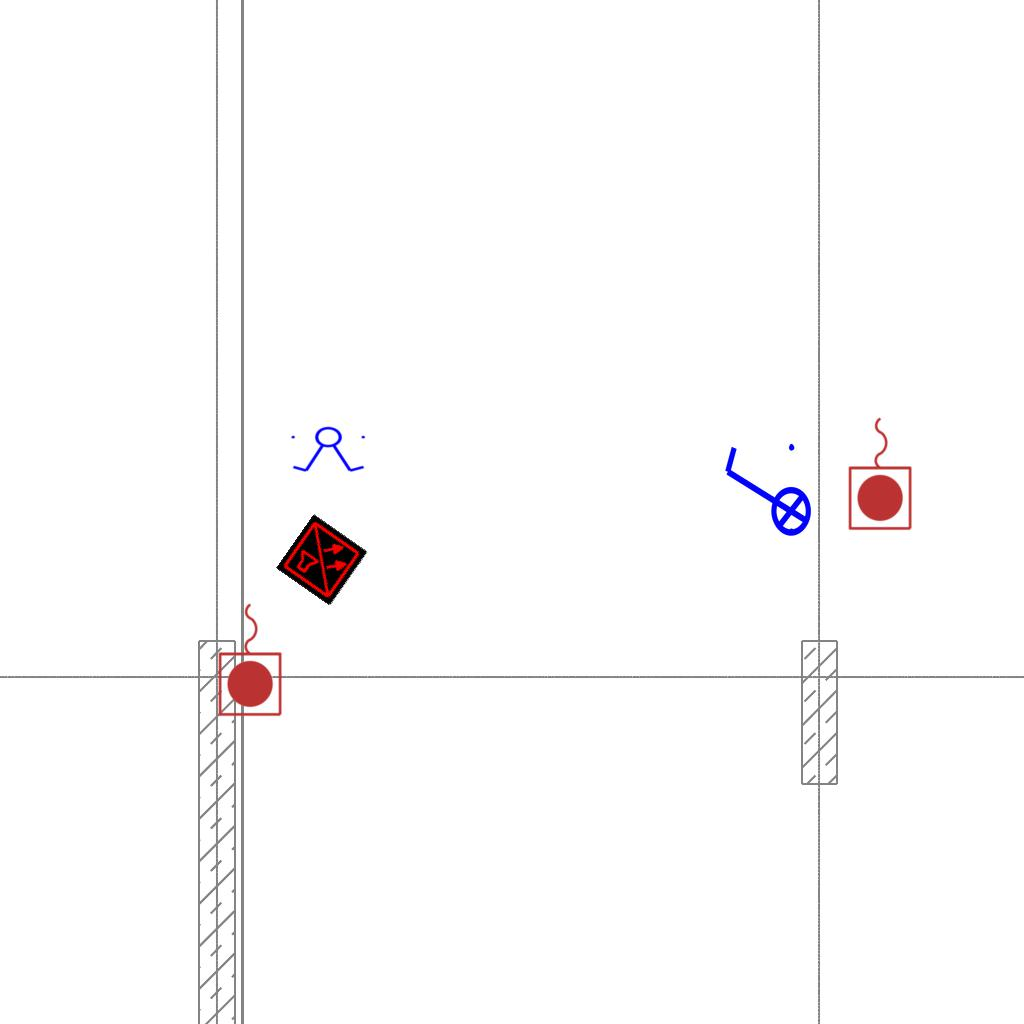Ausschalter_beleuchtet: (717, 438, 813, 550)
OKW_Multisensormelder_(Kombination_optischer_Rauch-Kahlenmonoxid_Waerme-Melder): (276, 514, 368, 606)
Serienschalter: (287, 426, 371, 474)
Zugtaster: (845, 412, 917, 534), (215, 598, 287, 720)
